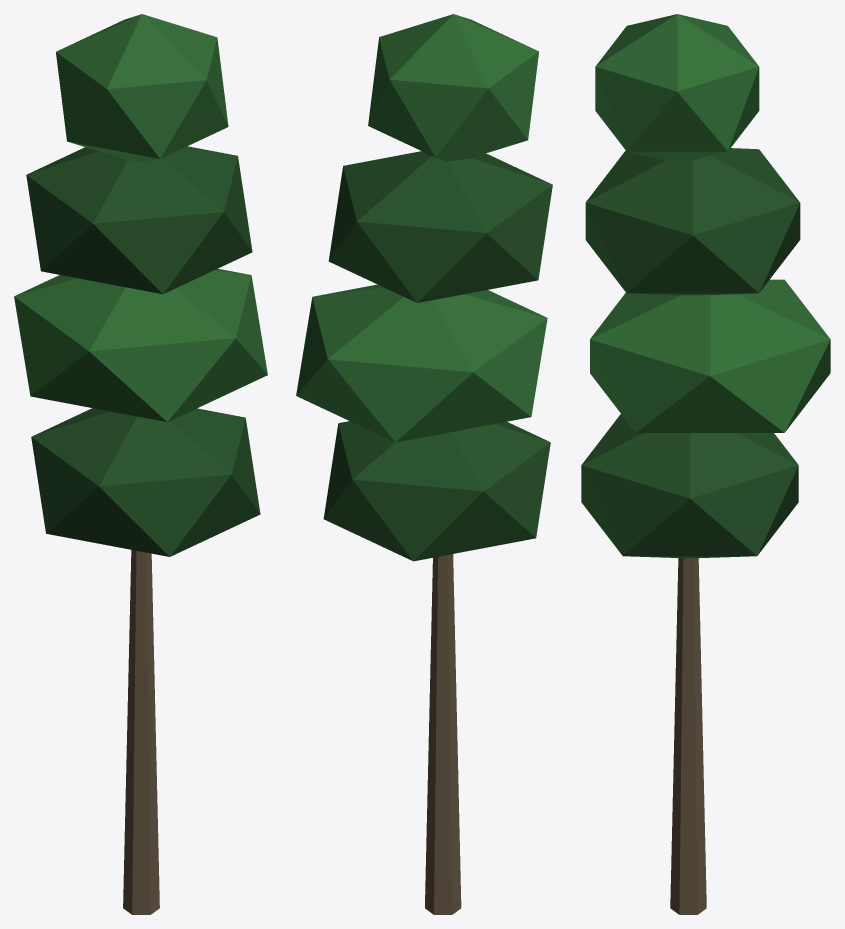
Rendered from columnar-v2-summer.glb.
The picture shows the model from 3 angles, left to right: view 1: azimuth 30°, elevation 25°; view 2: azimuth 150°, elevation 25°; view 3: azimuth 270°, elevation 25°; orthographic projection.
Parts seen in each view (by area): view 1: columnar_v2; view 2: columnar_v2; view 3: columnar_v2.
Part boxes in pixels (x1=…): columnar_v2: x1=14, y1=14, x2=267, y2=914; columnar_v2: x1=296, y1=14, x2=552, y2=914; columnar_v2: x1=581, y1=14, x2=830, y2=914.
Size of what is drawn, in the model's own units: 3.33 by 12.93 by 3.28.
